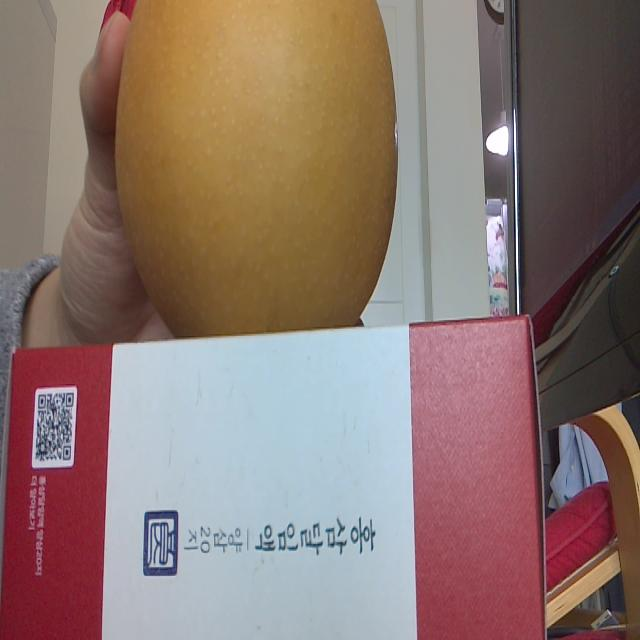pear: (117, 1, 398, 322)
